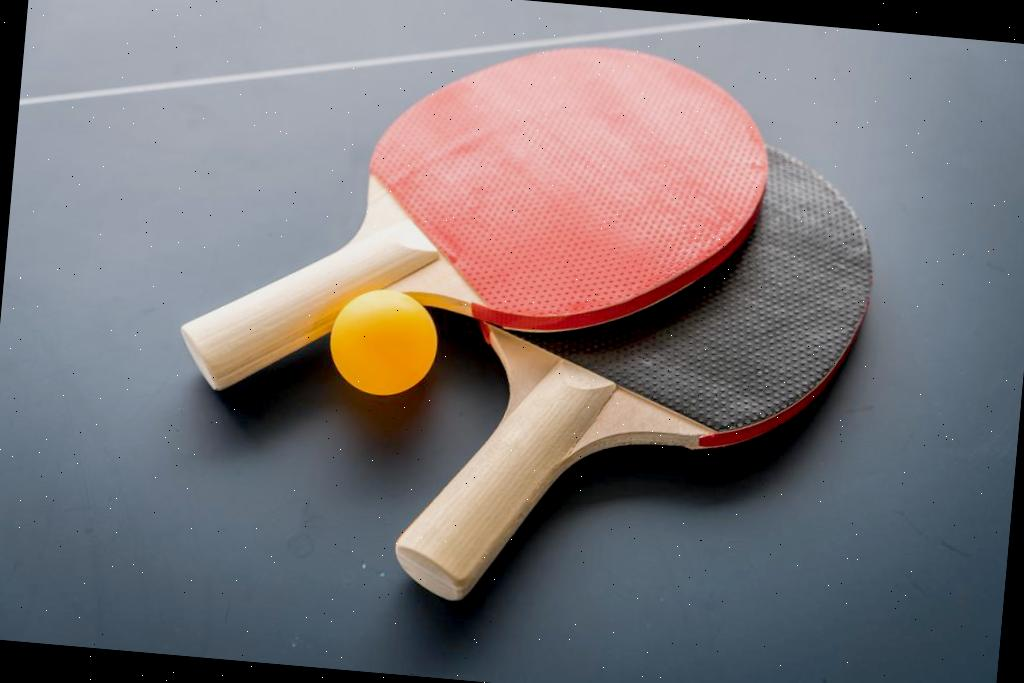ball: (318, 278, 444, 406)
